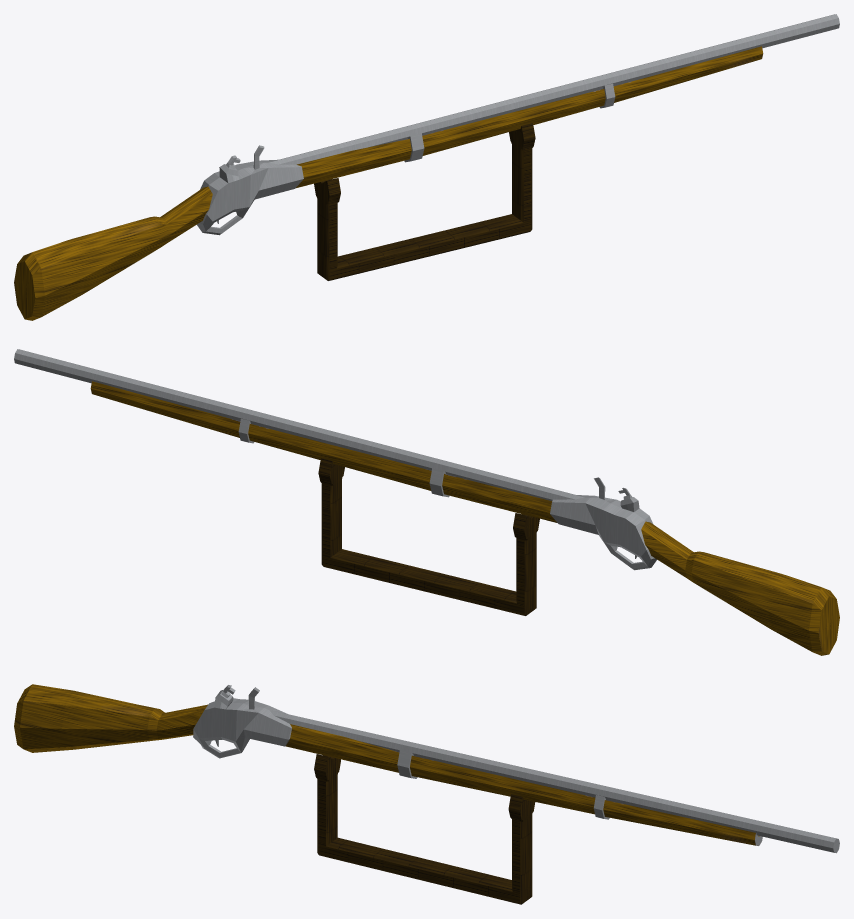
Rendered from Gun.fbx.
3 renders of one model, top to bottom at view 1: azimuth 30°, elevation 25°; view 2: azimuth 150°, elevation 25°; view 3: azimuth 330°, elevation 25°, orthographic.
Visible parts, largest first — view 1: pCube40; view 2: pCube40; view 3: pCube40.
Boxes of the visible parts, <box> form: pCube40: <box>14,14,839,320</box>; pCube40: <box>14,349,839,655</box>; pCube40: <box>14,684,839,904</box>.
Size of the model in its own units: 546 by 96.61 by 29.3.
1 material, 1 textured.
